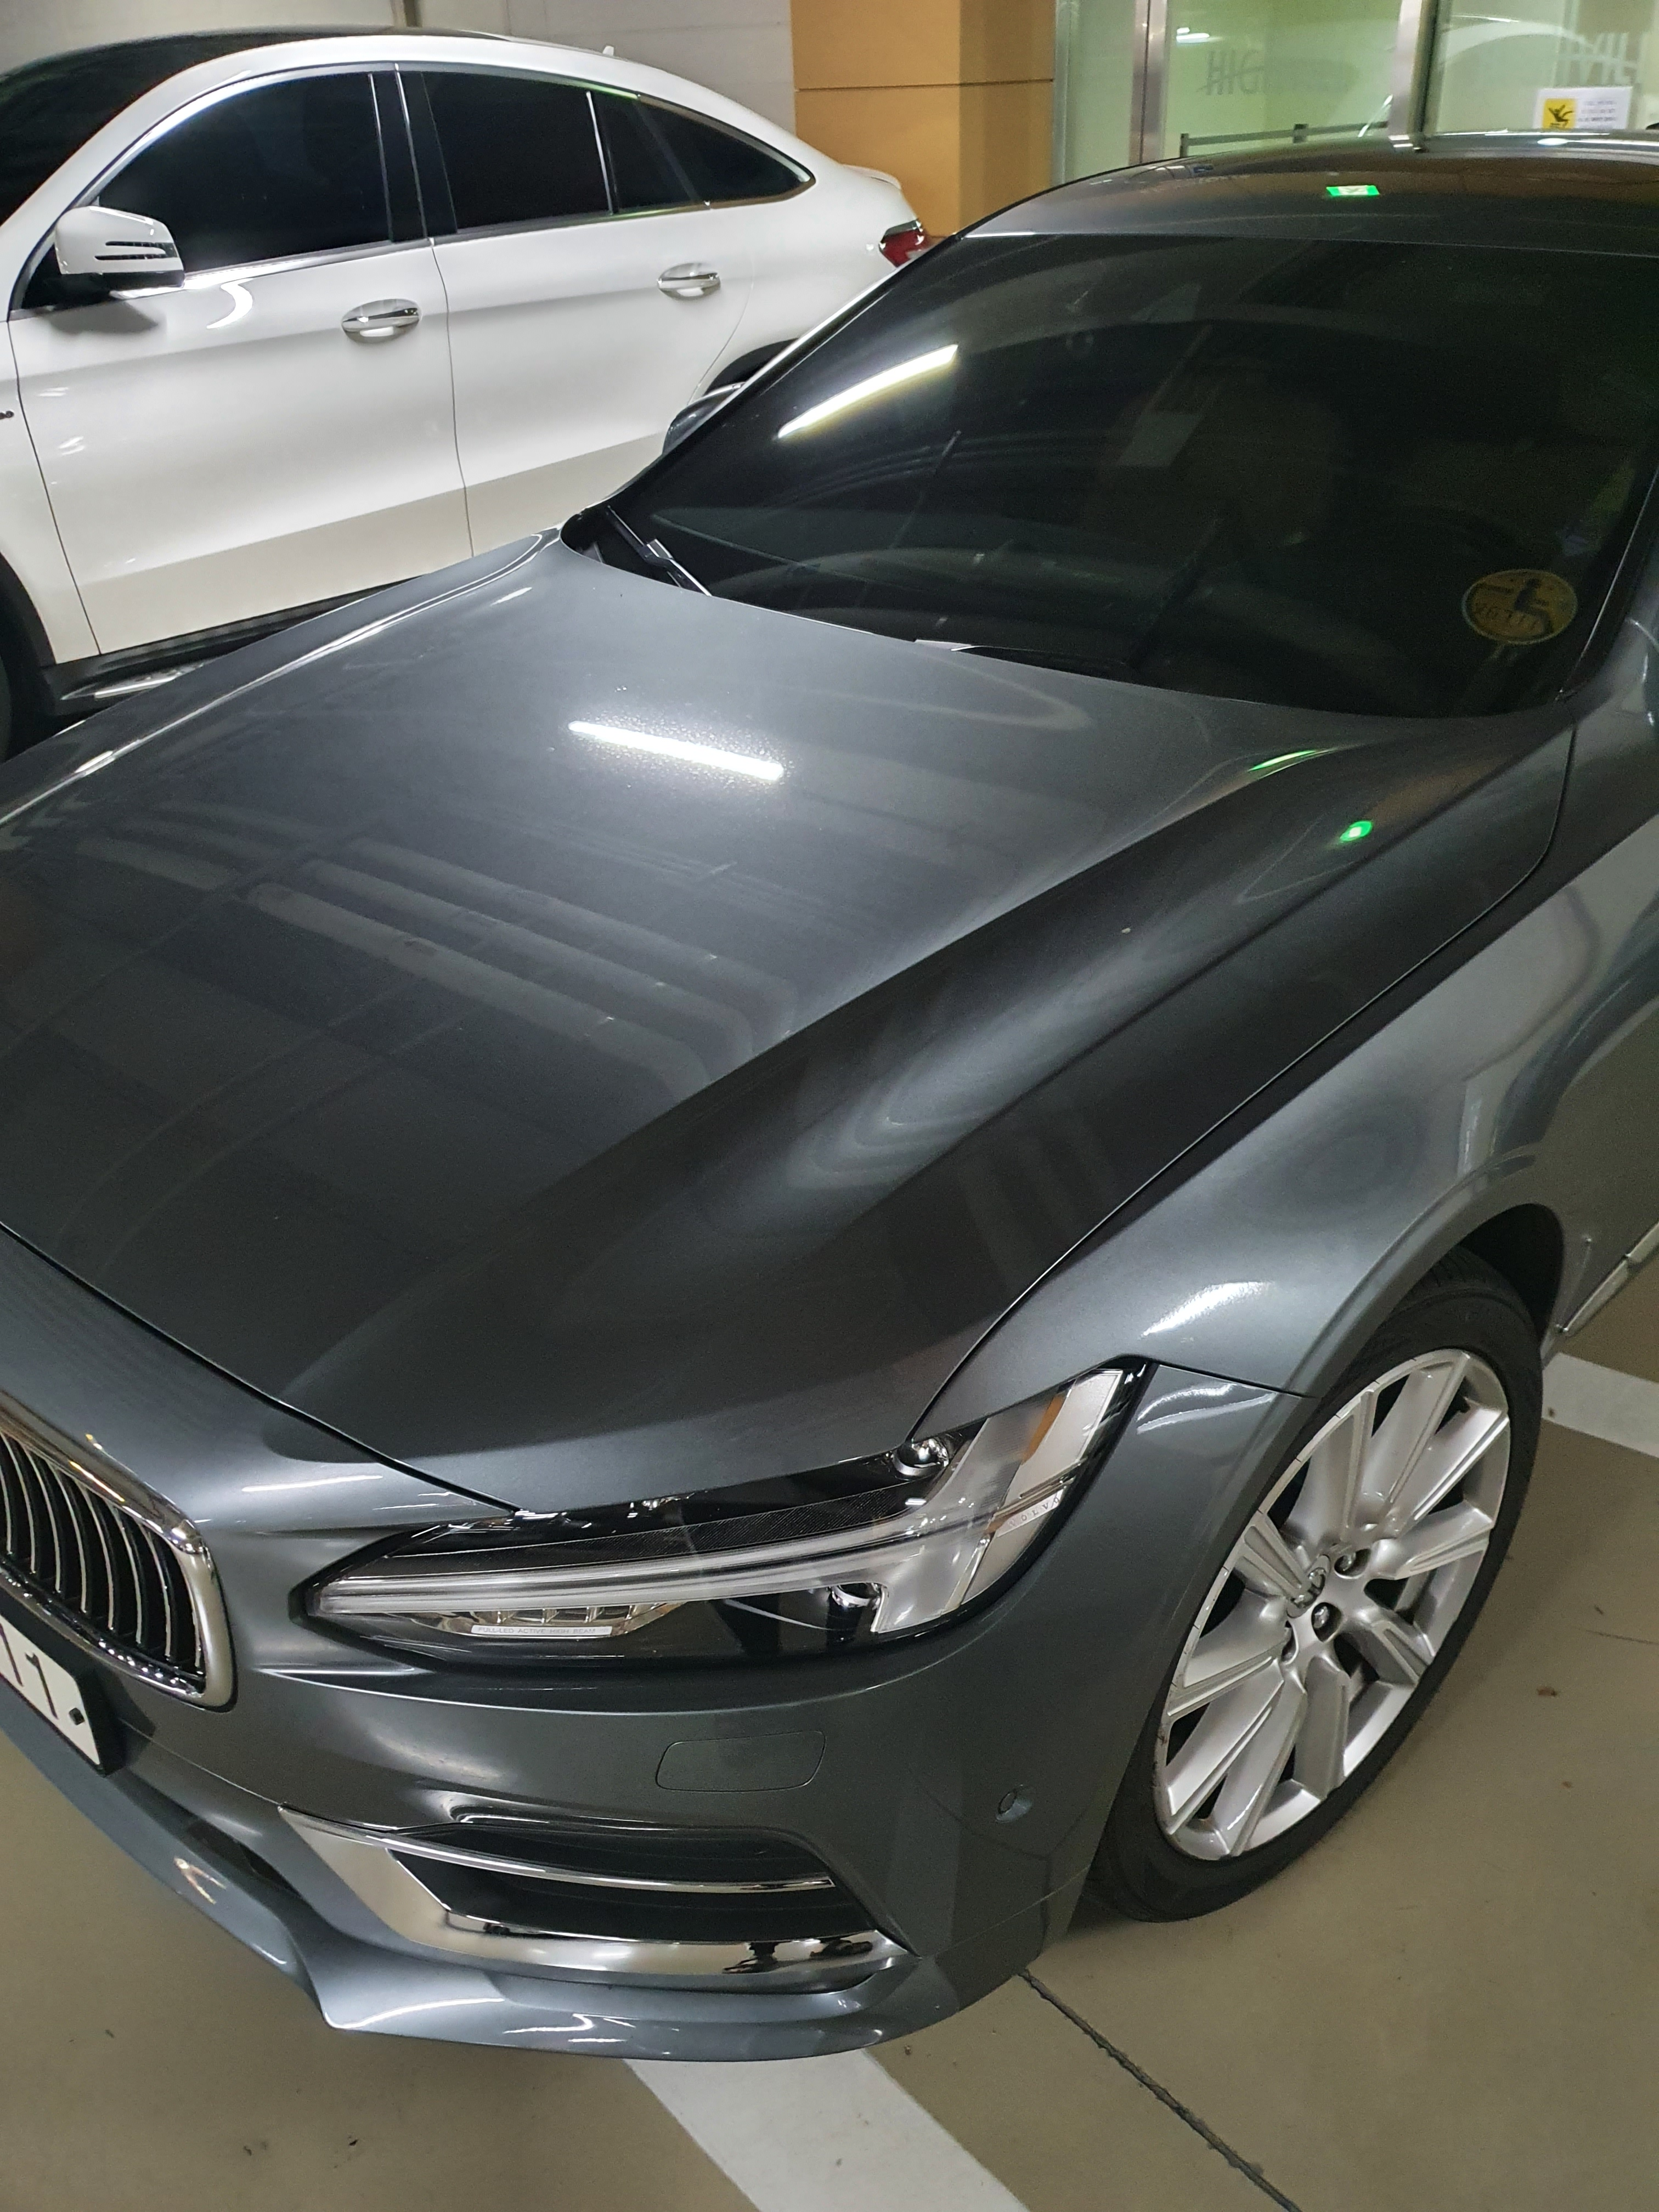disabled_parking: (1459, 557, 1581, 653)
